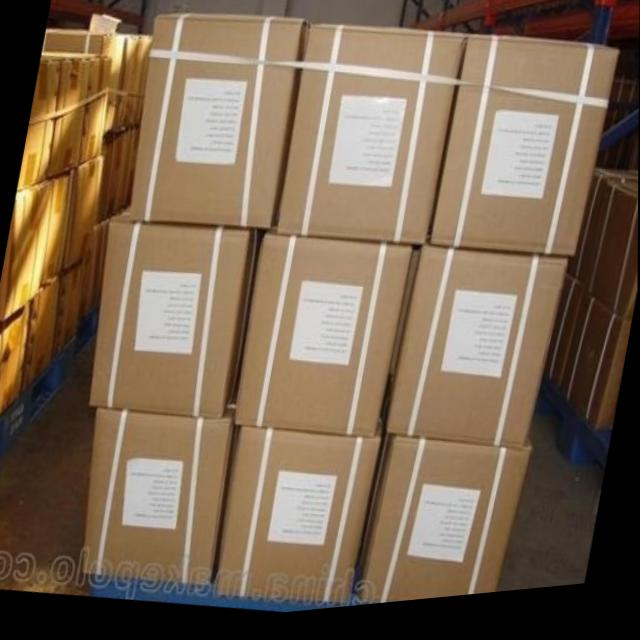box: (428, 45, 620, 270), (277, 28, 465, 257), (129, 15, 308, 235), (234, 234, 414, 443), (385, 257, 570, 456), (89, 206, 259, 420), (215, 429, 381, 613), (358, 442, 531, 611), (82, 408, 234, 594), (549, 291, 632, 441), (42, 28, 123, 143), (575, 192, 639, 330), (567, 182, 639, 290), (0, 179, 52, 322), (18, 56, 63, 192), (47, 57, 88, 179), (22, 274, 60, 393), (65, 157, 101, 271), (98, 130, 140, 224), (114, 36, 153, 134), (40, 177, 73, 286), (541, 287, 574, 393), (0, 304, 28, 417), (82, 57, 111, 164), (79, 222, 108, 326), (54, 265, 85, 362)
